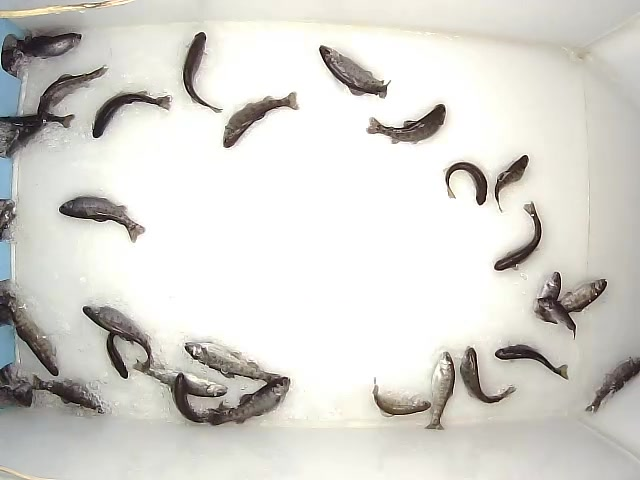fish: (3, 291, 61, 377), (184, 340, 284, 388), (82, 305, 155, 368), (222, 91, 300, 149), (58, 195, 146, 244), (208, 376, 291, 427), (318, 45, 392, 100), (92, 89, 172, 139), (131, 358, 228, 398), (36, 64, 109, 117), (181, 31, 224, 114), (366, 102, 447, 146), (459, 344, 517, 405), (493, 200, 542, 271), (584, 356, 640, 414), (168, 371, 228, 425), (31, 374, 106, 416), (494, 344, 570, 381), (541, 278, 608, 319), (423, 351, 456, 431), (371, 376, 432, 418), (494, 154, 529, 214), (443, 161, 488, 206), (15, 32, 83, 60), (537, 297, 577, 341), (534, 269, 562, 325), (106, 330, 135, 380)
